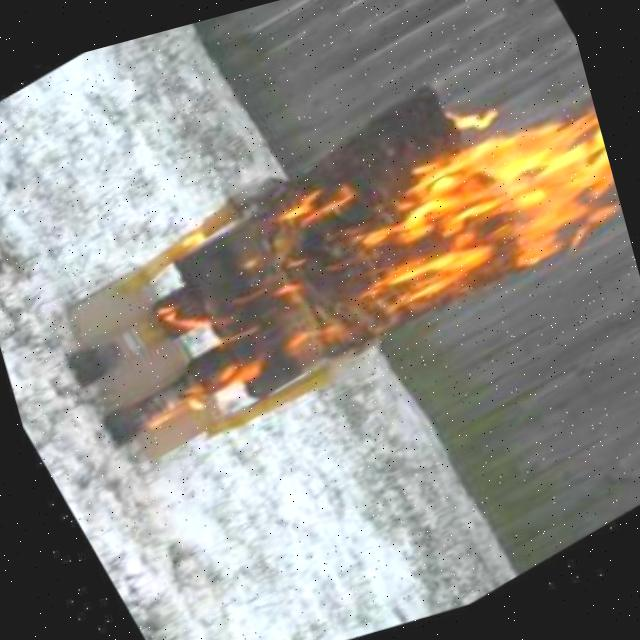fire: (171, 111, 633, 365)
